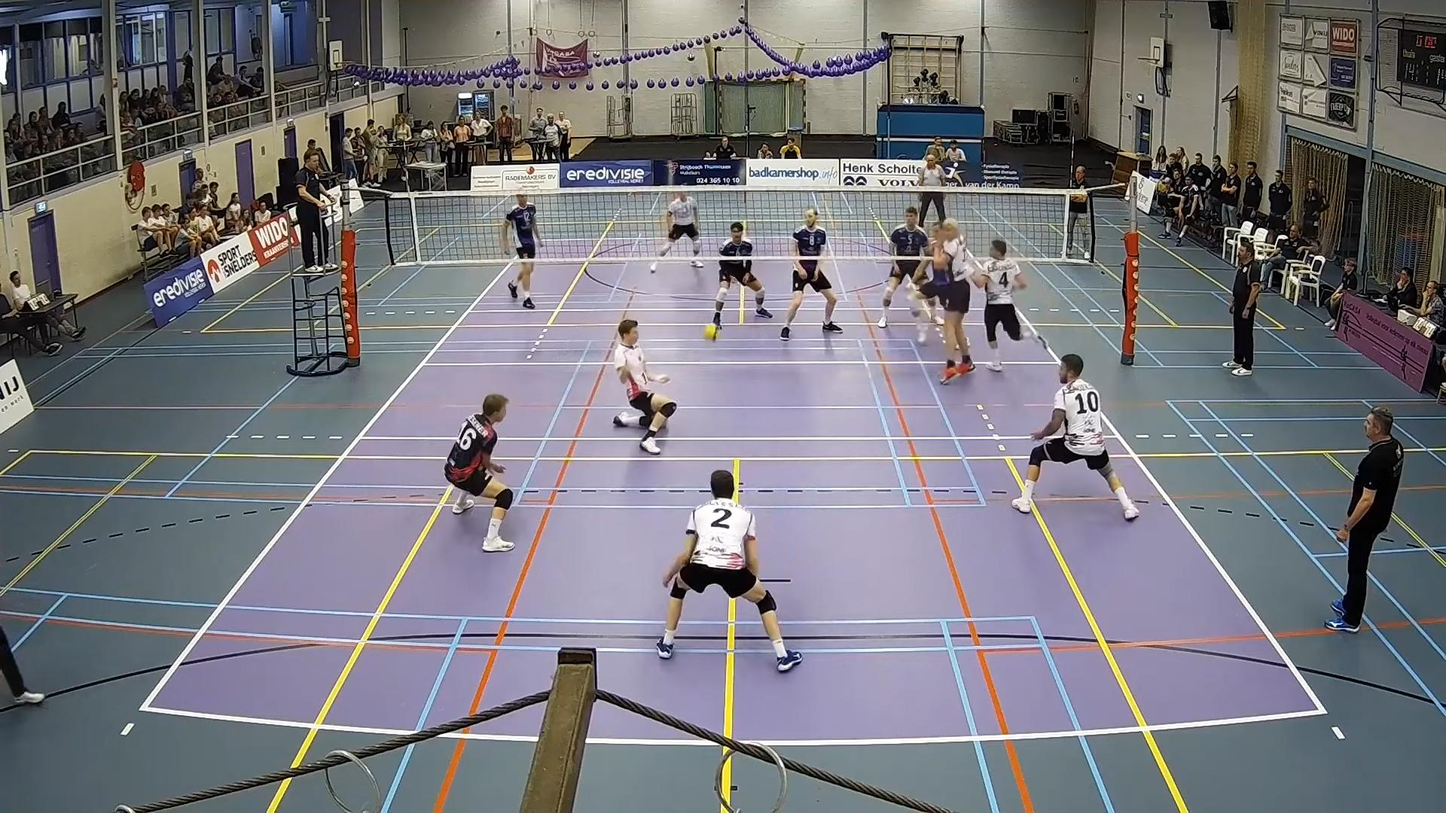difesa: (607, 318, 680, 458)
